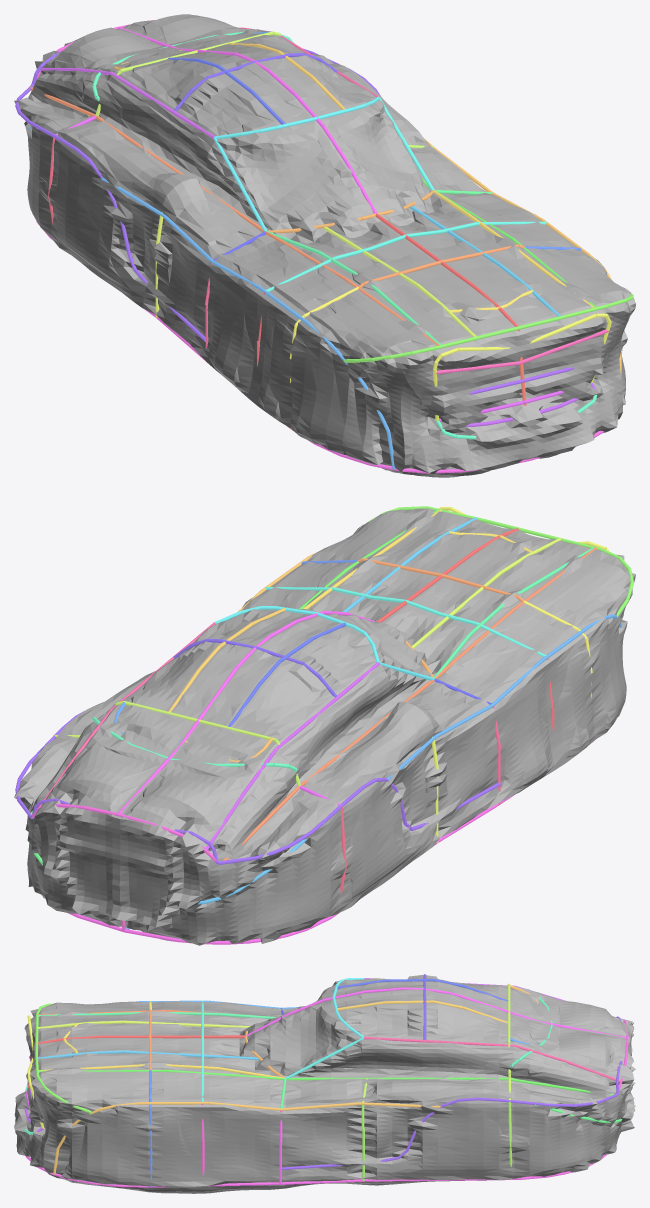
Rendered from t2f_car_97.gltf.
3 views of the same model, one above another, from view 1: azimuth 30°, elevation 25°; view 2: azimuth 150°, elevation 25°; view 3: azimuth 270°, elevation 25° (orthographic). The views are drawn at different scales.
Size of the model in its own units: 0.3911 by 0.2798 by 0.9152.
